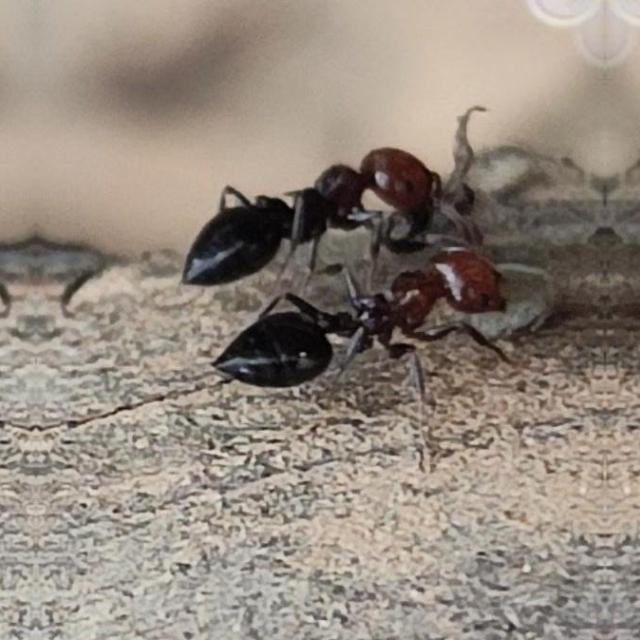Crematogaster: (200, 237, 518, 426), (178, 120, 448, 304)
